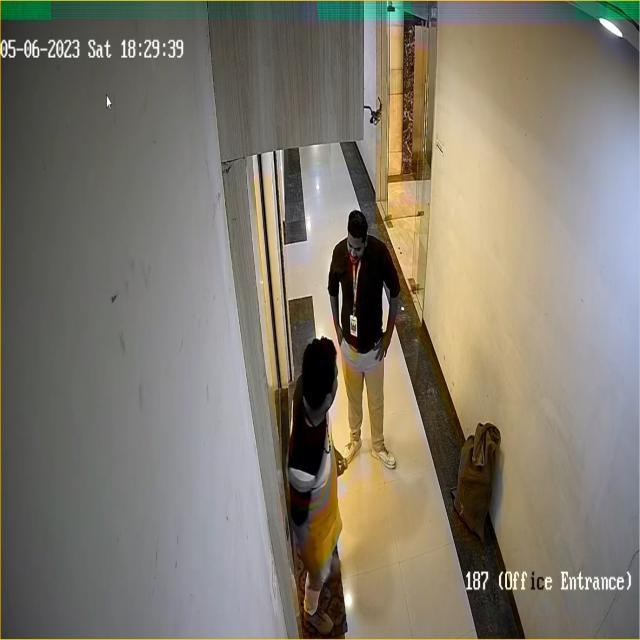gunny_bag: (450, 418, 500, 540)
